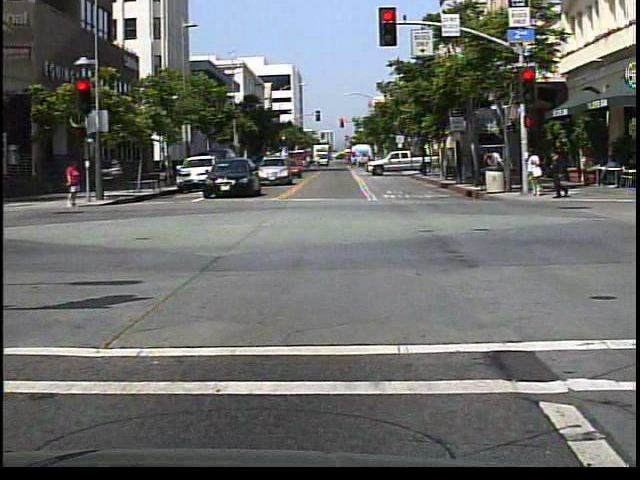person: (546, 147, 572, 202), (526, 144, 546, 200), (65, 159, 86, 211)
